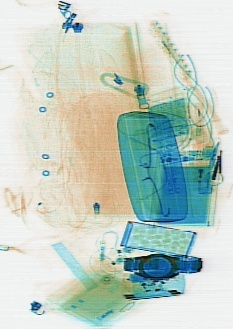lighter: (193, 134, 217, 195)
powerbank: (142, 84, 190, 143)
